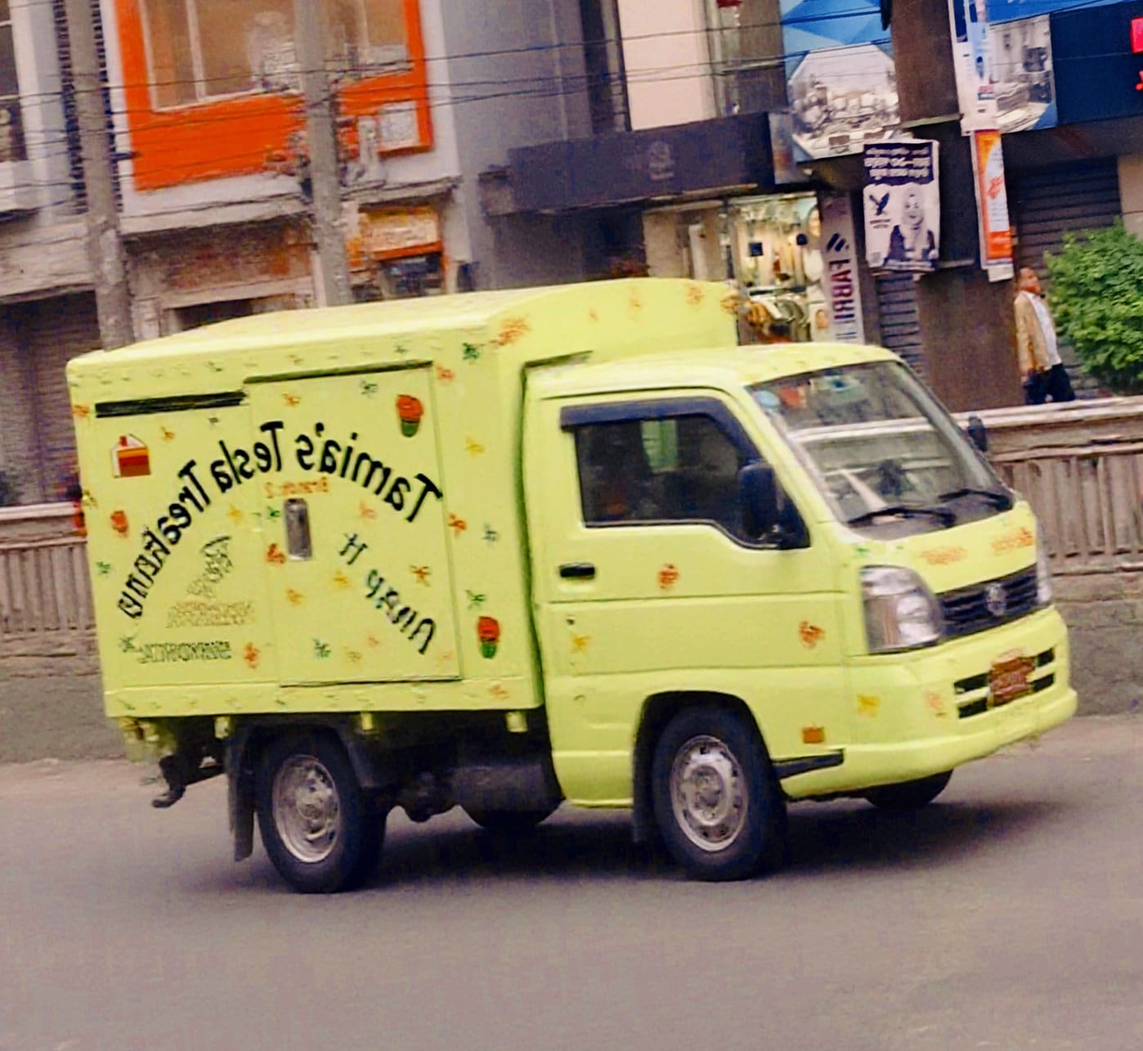Pickup: (44, 260, 1097, 888)
